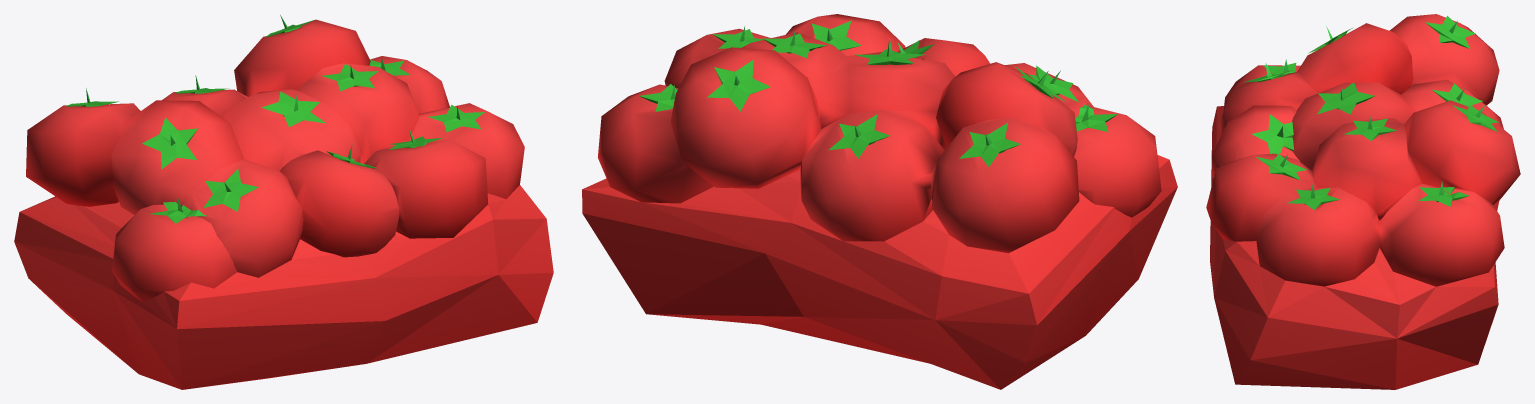
File: tomato_pile_lowpoly.fbx
3 renders of one model, left to right at view 1: azimuth 30°, elevation 25°; view 2: azimuth 150°, elevation 25°; view 3: azimuth 270°, elevation 25°, orthographic. The views are drawn at different scales.
Visible parts, largest first — view 1: tomato_pile_lowpoly; view 2: tomato_pile_lowpoly; view 3: tomato_pile_lowpoly.
Boxes of the visible parts, x1,y1,x2,y2 form: tomato_pile_lowpoly: (14, 15, 553, 389); tomato_pile_lowpoly: (582, 14, 1177, 389); tomato_pile_lowpoly: (1206, 14, 1520, 389).
Size of the model in its own units: 408 by 228 by 283.
